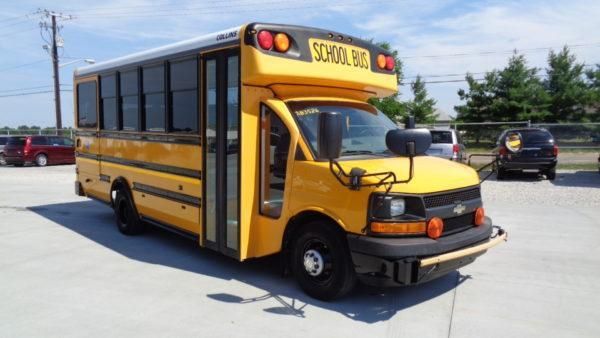Bus: (72, 23, 508, 303)
